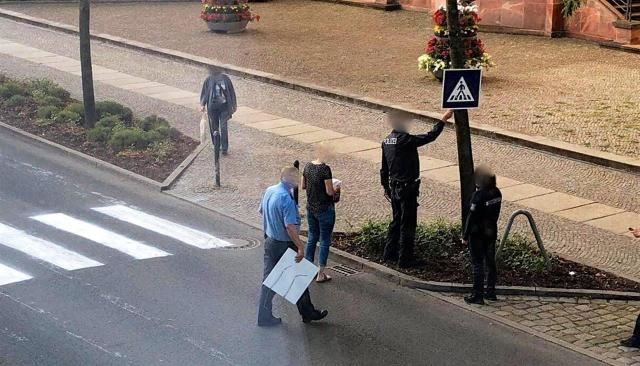crosswalk-sign: (442, 69, 483, 111)
